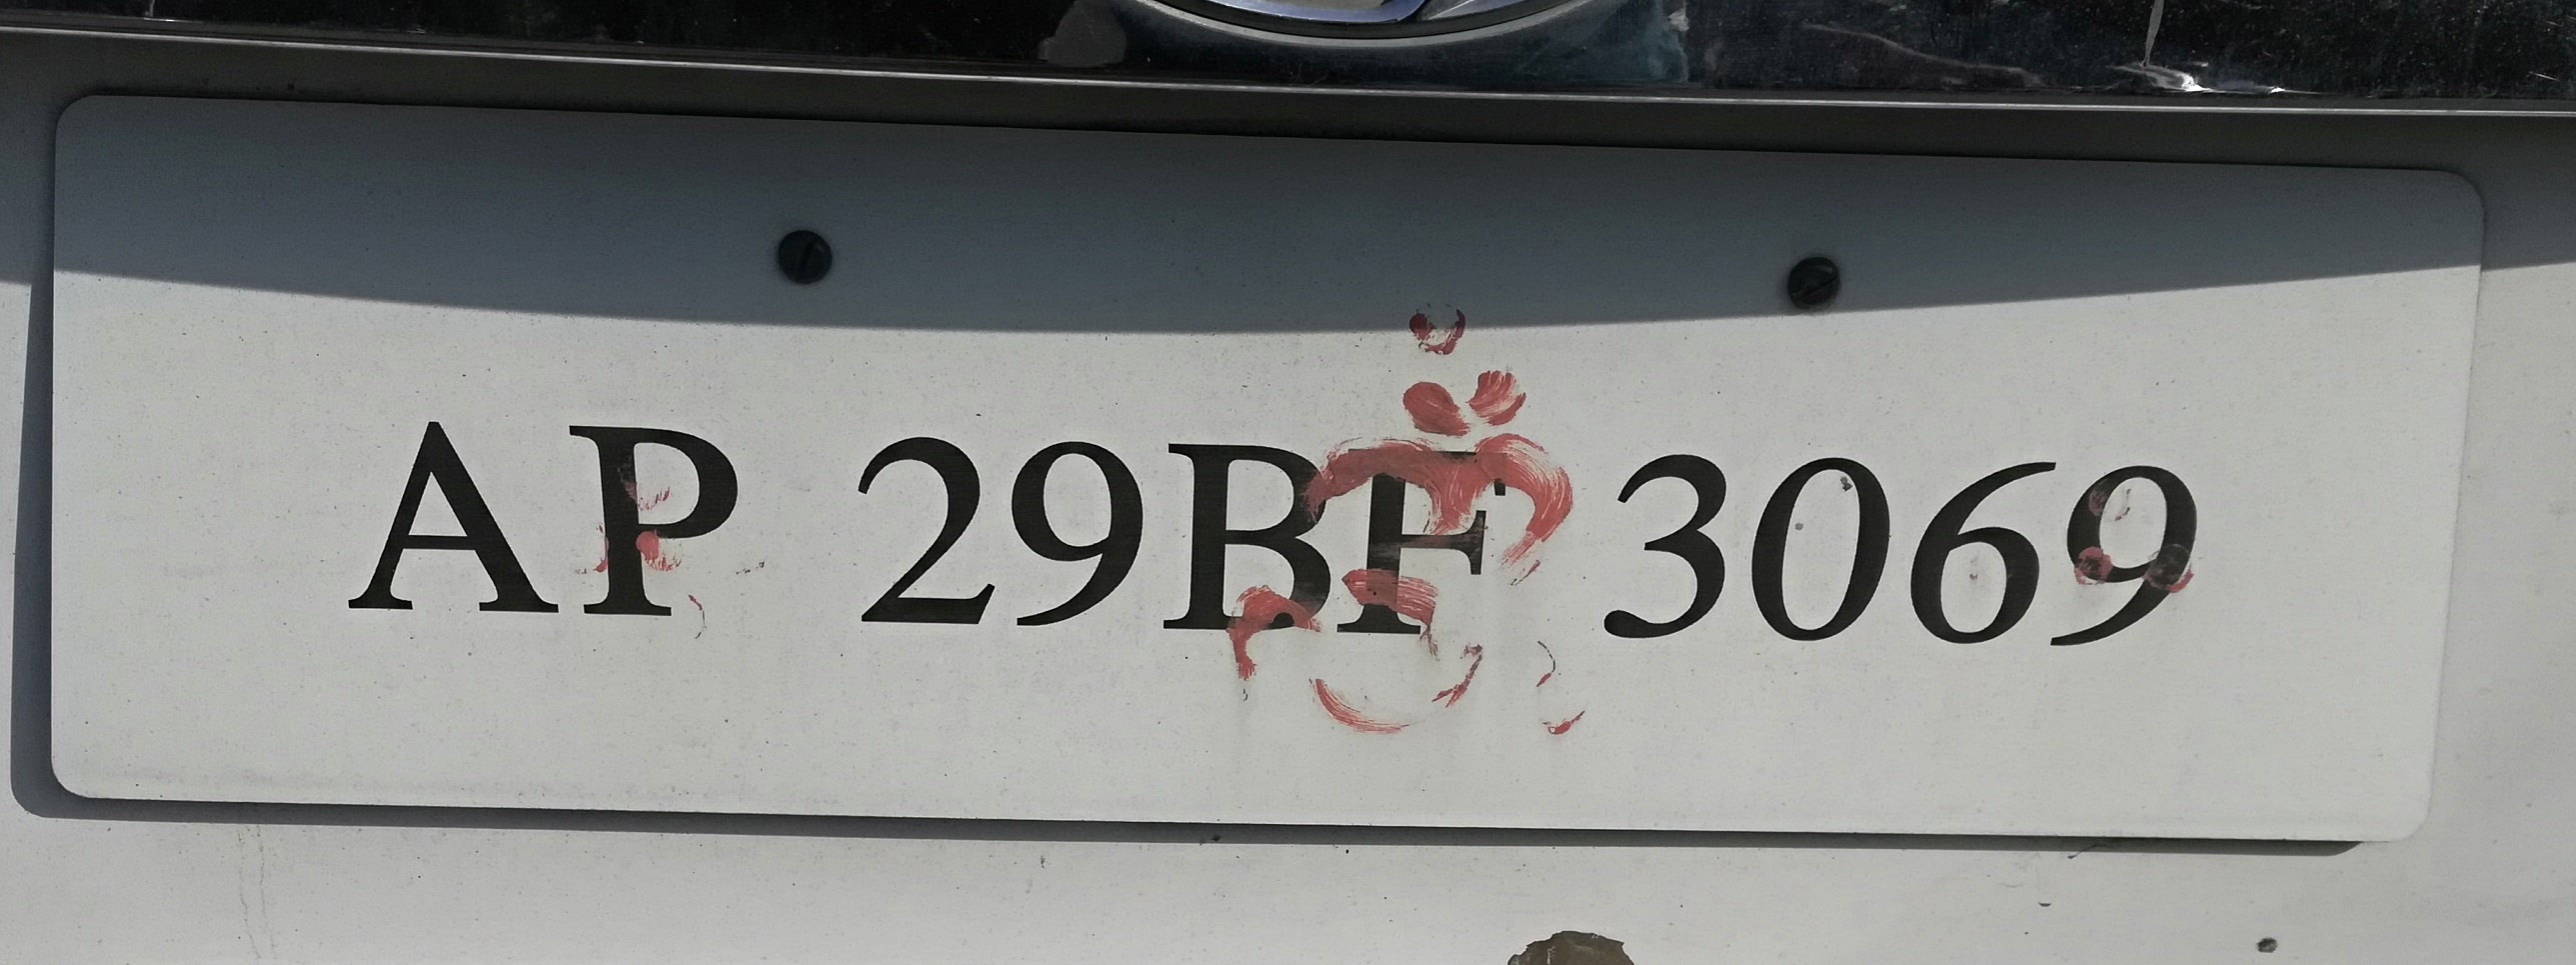numberplate: (36, 82, 2491, 856)
